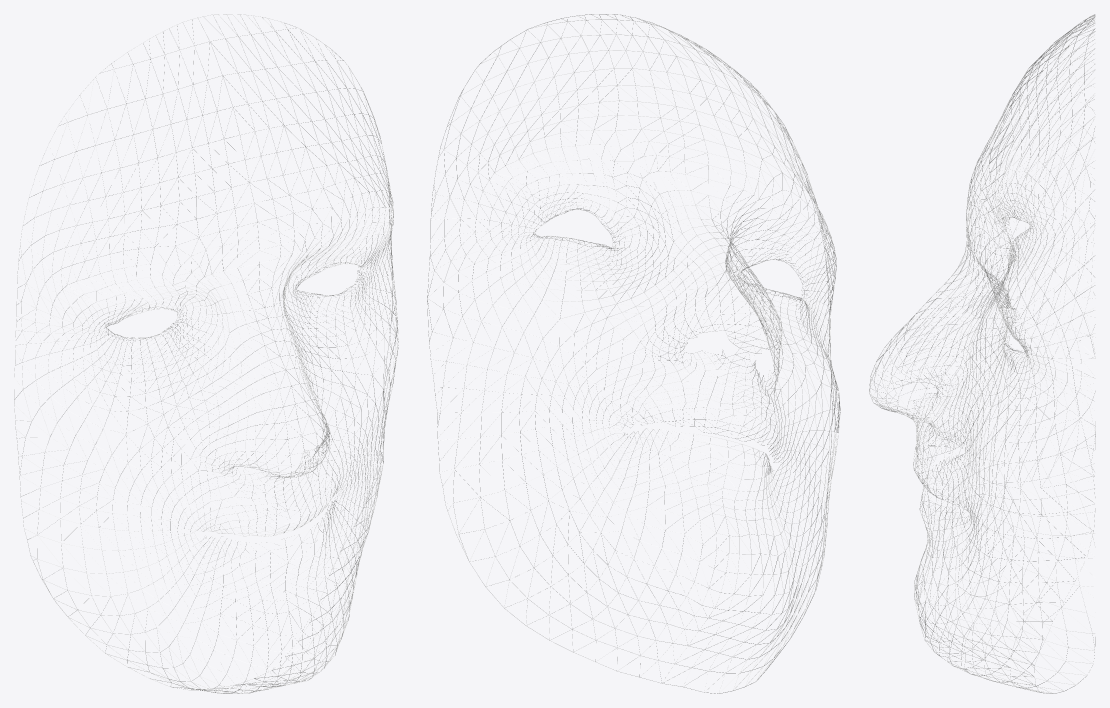
File: faceprofilewire-transformed.glb
The picture shows the model from 3 angles, left to right: view 1: azimuth 30°, elevation 25°; view 2: azimuth 150°, elevation 25°; view 3: azimuth 270°, elevation 25°; orthographic projection. The views are drawn at different scales.
Visible parts, largest first — view 1: model.003; view 2: model.003; view 3: model.003.
Part boxes in pixels (x1=…): model.003: x1=14, y1=14, x2=398, y2=693; model.003: x1=427, y1=14, x2=840, y2=693; model.003: x1=869, y1=14, x2=1095, y2=693.
Bounding box in the file's own units: 1.28 × 2.09 × 0.6666.
Materials: 1 (1 with a texture image).
